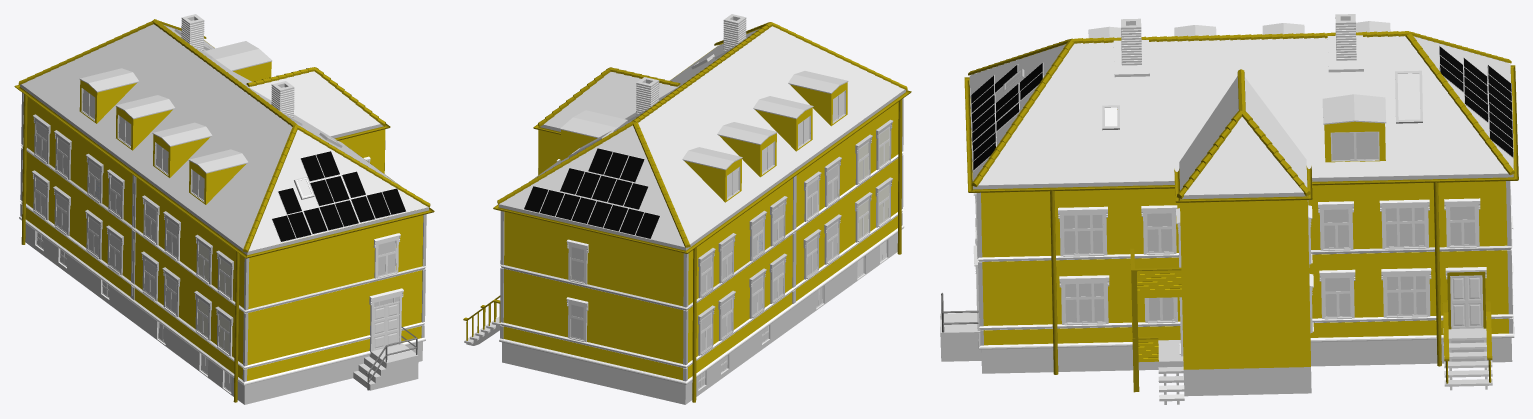
The model's file is house_panel_1_0011.glb.
The picture shows the model from 3 angles, left to right: view 1: azimuth 30°, elevation 25°; view 2: azimuth 150°, elevation 25°; view 3: azimuth 270°, elevation 25°; orthographic projection. The views are drawn at different scales.
Parts seen in each view (by area): view 1: SketchUp.874, SketchUp.871, SketchUp.865, SketchUp.002, SketchUp.511, SketchUp.484, SketchUp.001, SketchUp.872, SketchUp.015, SketchUp.057, SketchUp.052, SketchUp.734 (+33 smaller); view 2: SketchUp.874, SketchUp.871, SketchUp.002, SketchUp.865, SketchUp.511, SketchUp.484, SketchUp.001, SketchUp.872, SketchUp.057, SketchUp.052, SketchUp.734, SketchUp.522 (+30 smaller); view 3: SketchUp.871, SketchUp.874, SketchUp.868, SketchUp.865, SketchUp.002, SketchUp, SketchUp.511, SketchUp.872, SketchUp.734, SketchUp.057, SketchUp.484, SketchUp.019 (+30 smaller).
Part boxes in pixels (x1,y1,x2,y2): SketchUp.874: (25, 97, 423, 380); SketchUp.871: (21, 24, 428, 251); SketchUp.865: (249, 71, 380, 136); SketchUp.002: (25, 224, 422, 404); SketchUp.511: (14, 40, 434, 258); SketchUp.484: (19, 216, 425, 385); SketchUp.001: (109, 286, 199, 370); SketchUp.872: (20, 84, 428, 255); SketchUp.015: (353, 351, 418, 390); SketchUp.057: (20, 200, 425, 369); SketchUp.052: (21, 144, 426, 313); SketchUp.734: (205, 41, 272, 71); SketchUp.874: (503, 102, 898, 380); SketchUp.871: (499, 26, 904, 247); SketchUp.002: (502, 232, 897, 404); SketchUp.865: (544, 72, 678, 128); SketchUp.511: (493, 48, 911, 253); SketchUp.484: (499, 225, 904, 384); SketchUp.001: (770, 262, 857, 343); SketchUp.872: (498, 89, 905, 250); SketchUp.057: (499, 209, 903, 368); SketchUp.052: (500, 153, 902, 310); SketchUp.734: (560, 110, 627, 138); SketchUp.522: (790, 82, 847, 126); SketchUp.871: (969, 36, 1513, 185); SketchUp.874: (981, 109, 1508, 345); SketchUp.868: (1180, 200, 1310, 369); SketchUp.865: (1179, 76, 1307, 195); SketchUp.002: (981, 338, 1512, 373); SketchUp: (1183, 366, 1311, 396); SketchUp.511: (964, 65, 1518, 192); SketchUp.872: (969, 77, 1513, 189); SketchUp.734: (1322, 94, 1386, 124); SketchUp.057: (975, 218, 1513, 330); SketchUp.484: (975, 240, 1514, 349); SketchUp.019: (1137, 270, 1181, 298).
Bounding box in the file's own units: 13.74 × 13.47 × 22.92.
